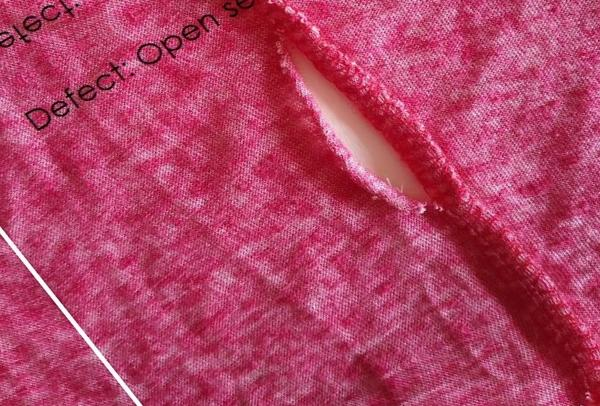hole: (274, 31, 450, 223)
